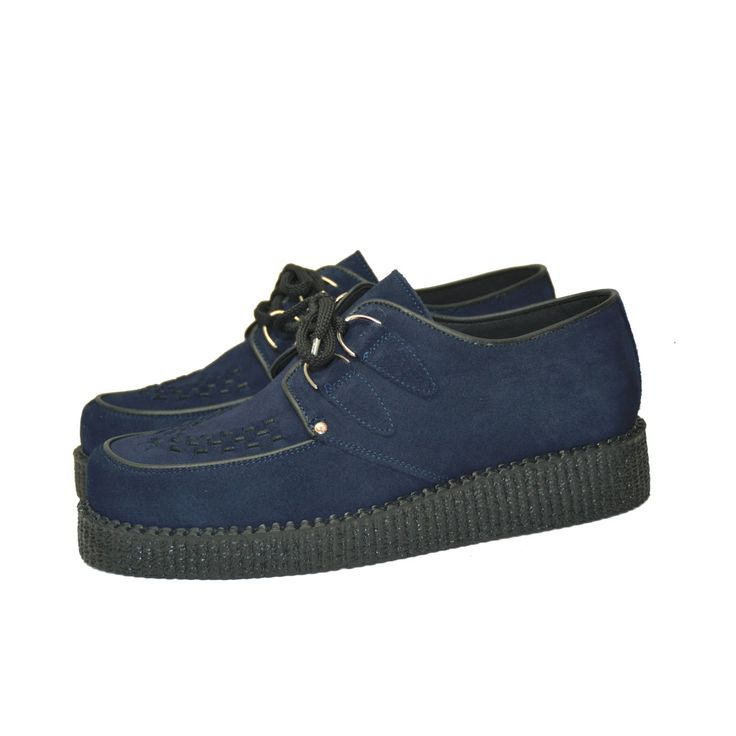gamuza: (84, 250, 642, 530)
